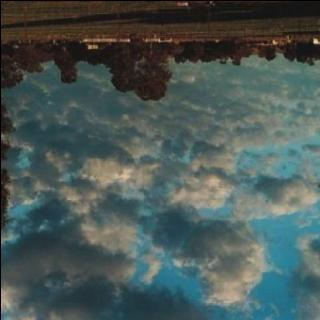Altocumulus: (0, 63, 320, 320)
